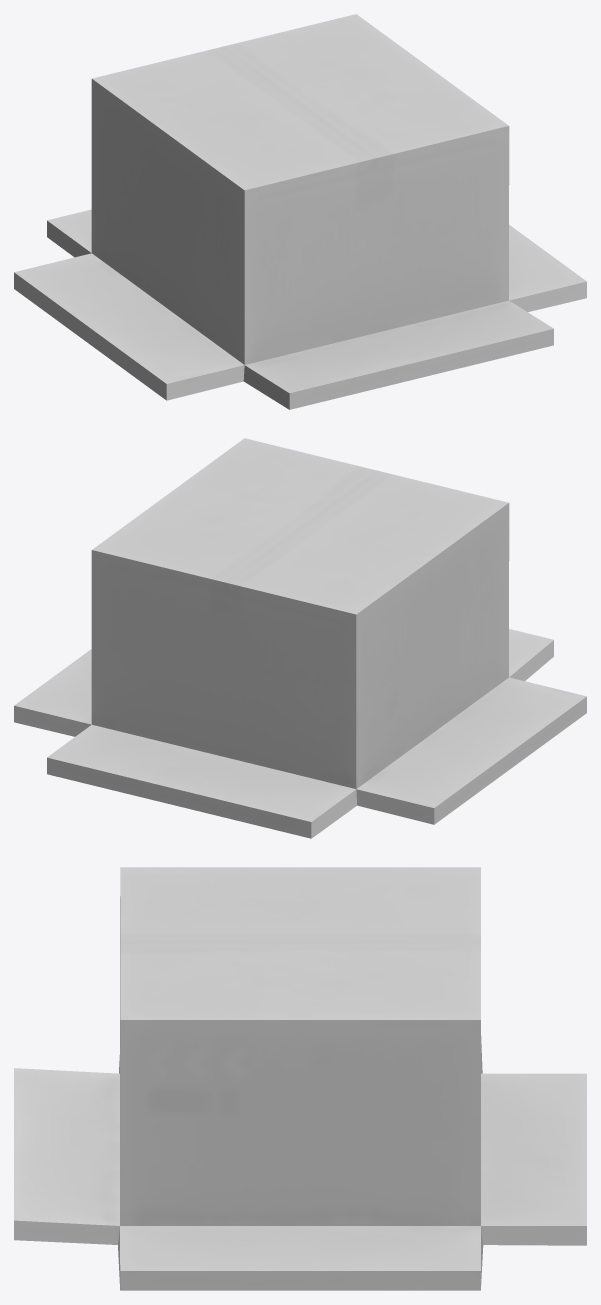
Rendered from Pfb_PaperBox__6.fbx.
3 renders of one model, top to bottom at view 1: azimuth 30°, elevation 25°; view 2: azimuth 150°, elevation 25°; view 3: azimuth 270°, elevation 25°, orthographic. The views are drawn at different scales.
Visible parts, largest first — view 1: Mat_PaperBox_01_02; view 2: Mat_PaperBox_01_02; view 3: Mat_PaperBox_01_02.
Boxes of the visible parts, left/top/right/bottom form: Mat_PaperBox_01_02: left=14, top=14, right=586, bottom=409; Mat_PaperBox_01_02: left=14, top=438, right=586, bottom=838; Mat_PaperBox_01_02: left=14, top=867, right=586, bottom=1290.
Bounding box in the file's own units: 1.57 × 0.6813 × 1.57.
1 material, 1 textured.
